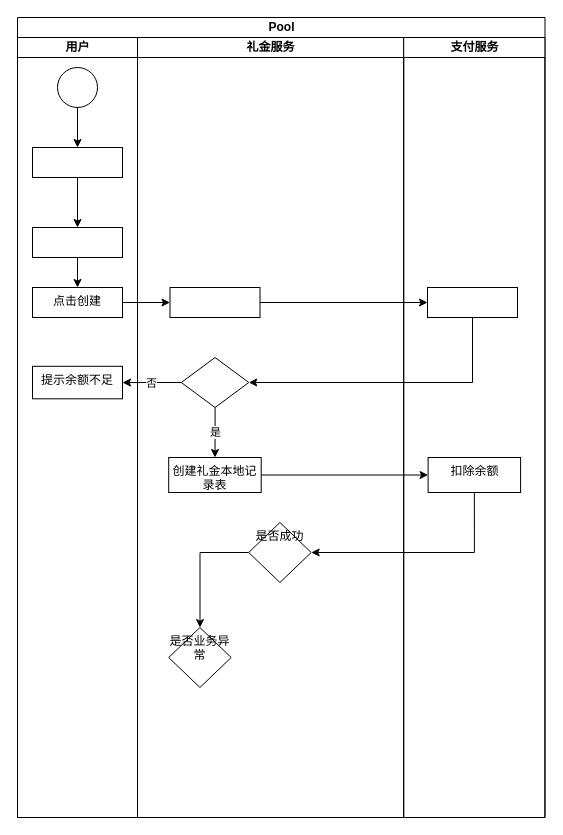
Image size: 563x835. Some labels were removed from this diagram. Here are the shapes that lost their labels. From the top down, the centre of each, then its label:
point 77,162: 选择商品
point 77,242: 输入礼金信息
point 214,302: 校验参数
point 472,302: 查询余额
point 214,382: 余额是否够
